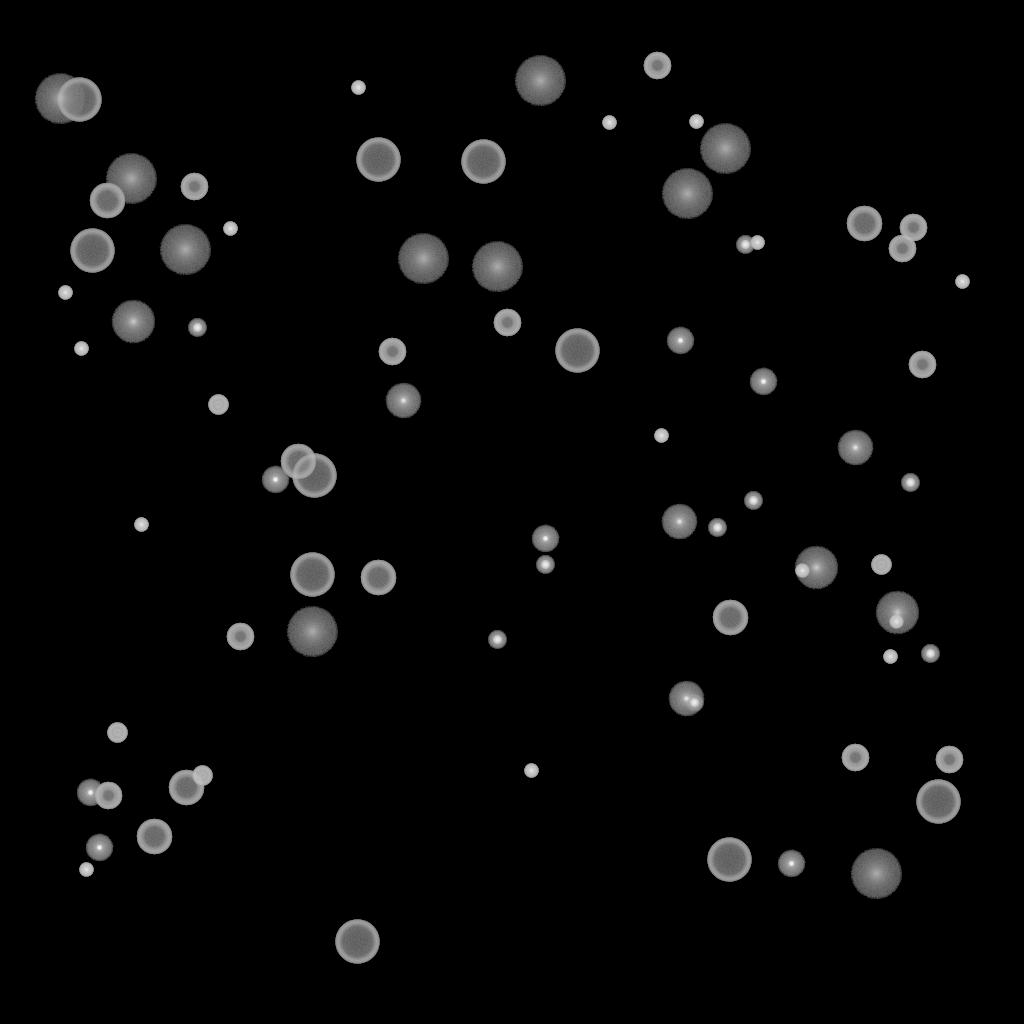depth:-10: (666, 327, 694, 355), (531, 525, 559, 553), (85, 834, 113, 862), (261, 466, 289, 494), (749, 368, 777, 396), (777, 850, 805, 878), (76, 779, 104, 807)
depth:-20: (685, 694, 703, 712), (488, 631, 506, 649), (536, 556, 554, 574), (744, 492, 762, 510), (921, 645, 939, 663), (708, 519, 726, 537), (736, 236, 754, 254), (901, 474, 919, 492), (188, 319, 206, 337)
depth:-30: (955, 275, 969, 289), (654, 429, 668, 443), (883, 650, 897, 664), (889, 615, 903, 629), (689, 115, 703, 129), (74, 342, 88, 356), (134, 518, 148, 532), (524, 764, 538, 778), (795, 564, 809, 578), (223, 222, 237, 236), (58, 286, 72, 300), (602, 116, 616, 130), (750, 236, 764, 250), (79, 863, 93, 877), (351, 81, 365, 95)
depth:-40: (208, 395, 228, 415), (192, 766, 212, 786), (107, 723, 127, 743), (871, 555, 891, 575)
depth:-50: (94, 782, 122, 810), (378, 338, 406, 366), (180, 173, 208, 201), (493, 309, 521, 337), (899, 214, 927, 242), (226, 623, 254, 651), (935, 746, 963, 774), (841, 744, 869, 772), (888, 235, 916, 263), (908, 351, 936, 379), (643, 52, 671, 80)
depth:-60: (846, 206, 882, 242), (89, 183, 125, 219), (136, 819, 172, 855), (360, 560, 396, 596), (712, 600, 748, 636), (280, 444, 316, 480), (168, 770, 204, 806)
depth:-70: (707, 838, 751, 882), (555, 329, 599, 373), (356, 138, 400, 182), (70, 229, 114, 273), (916, 780, 960, 824), (292, 454, 336, 498), (57, 78, 101, 122), (461, 140, 505, 184), (335, 920, 379, 964), (290, 553, 334, 597)
depth:0: (837, 430, 873, 466), (668, 681, 704, 717), (661, 504, 697, 540), (385, 383, 421, 419)
depth:10: (111, 300, 155, 344), (794, 546, 838, 590), (875, 591, 919, 635)
depth:20: (159, 225, 211, 275), (514, 56, 566, 106), (699, 124, 751, 174), (471, 242, 523, 292), (850, 849, 902, 899), (286, 607, 338, 657), (34, 74, 86, 124), (661, 169, 713, 219), (397, 234, 449, 284), (105, 154, 157, 204)
